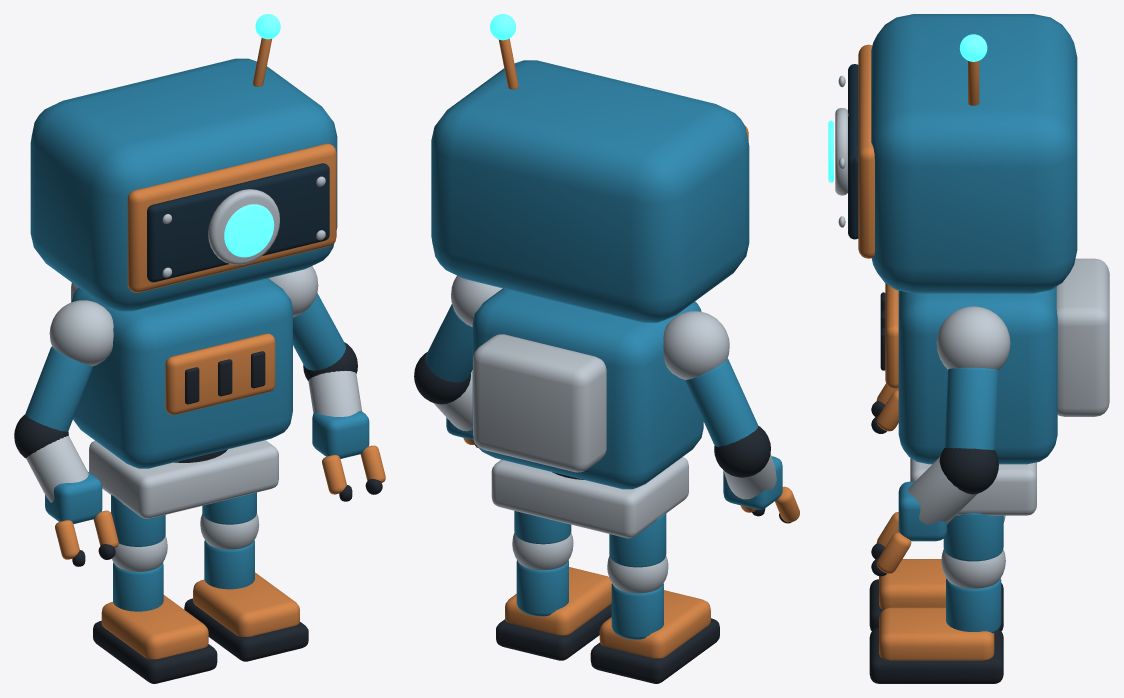
File: robot-pbr.glb
The picture shows the model from 3 angles, left to right: view 1: azimuth 30°, elevation 25°; view 2: azimuth 150°, elevation 25°; view 3: azimuth 270°, elevation 25°; orthographic projection. The views are drawn at different scales.
Parts seen in each view (by area): view 1: Helmet shell, Torso shell, Visor glass, Hip assembly, Visor copper surround, Chest copper plate, Boot armor, Boot armor.001, Upper arm, Shoulder bearing, Boot sole, Boot sole.001 (+20 smaller); view 2: Helmet shell, Torso shell, Back battery, Hip assembly, Upper arm, Shoulder bearing, Boot armor, Boot armor.001, Boot sole, Boot sole.001, Upper arm.001, Shin (+13 smaller); view 3: Helmet shell, Torso shell, Back battery, Boot armor.001, Upper arm.001, Shoulder bearing.001, Boot sole.001, Visor copper surround, Hip assembly, Boot armor, Thigh.001, Shin.001 (+12 smaller).
Part boxes in pixels (left/top/right/bottom): Helmet shell: left=30, top=58, right=337, bottom=311; Torso shell: left=72, top=278, right=292, bottom=468; Visor glass: left=147, top=163, right=329, bottom=282; Hip assembly: left=89, top=440, right=278, bottom=518; Visor copper surround: left=127, top=143, right=336, bottom=292; Chest copper plate: left=165, top=333, right=275, bottom=414; Boot armor: left=101, top=595, right=208, bottom=659; Boot armor.001: left=193, top=572, right=299, bottom=636; Upper arm: left=25, top=346, right=93, bottom=431; Shoulder bearing: left=49, top=300, right=113, bottom=366; Boot sole: left=93, top=620, right=217, bottom=683; Boot sole.001: left=184, top=598, right=308, bottom=661; Helmet shell: left=431, top=60, right=749, bottom=322; Torso shell: left=472, top=288, right=703, bottom=489; Back battery: left=473, top=334, right=606, bottom=472; Hip assembly: left=491, top=457, right=688, bottom=538; Upper arm: left=685, top=358, right=758, bottom=446; Shoulder bearing: left=663, top=311, right=729, bottom=379; Boot armor: left=599, top=590, right=710, bottom=658; Boot armor.001: left=505, top=567, right=611, bottom=635; Boot sole: left=590, top=618, right=719, bottom=683; Boot sole.001: left=496, top=604, right=611, bottom=660; Upper arm.001: left=425, top=304, right=472, bottom=382; Shin: left=611, top=583, right=663, bottom=639; Helmet shell: left=871, top=14, right=1077, bottom=293; Torso shell: left=898, top=286, right=1057, bottom=464; Back battery: left=1056, top=258, right=1109, bottom=416; Boot armor.001: left=879, top=607, right=994, bottom=660; Upper arm.001: left=944, top=367, right=998, bottom=450; Shoulder bearing.001: left=936, top=306, right=1010, bottom=370; Boot sole.001: left=869, top=628, right=1003, bottom=683; Visor copper surround: left=858, top=44, right=874, bottom=258; Hip assembly: left=910, top=458, right=1036, bottom=515; Boot armor: left=879, top=559, right=946, bottom=609; Thigh.001: left=943, top=513, right=1003, bottom=561; Shin.001: left=946, top=578, right=1001, bottom=633.
Size of the model in its own units: 1.84 by 3.12 by 1.22.
